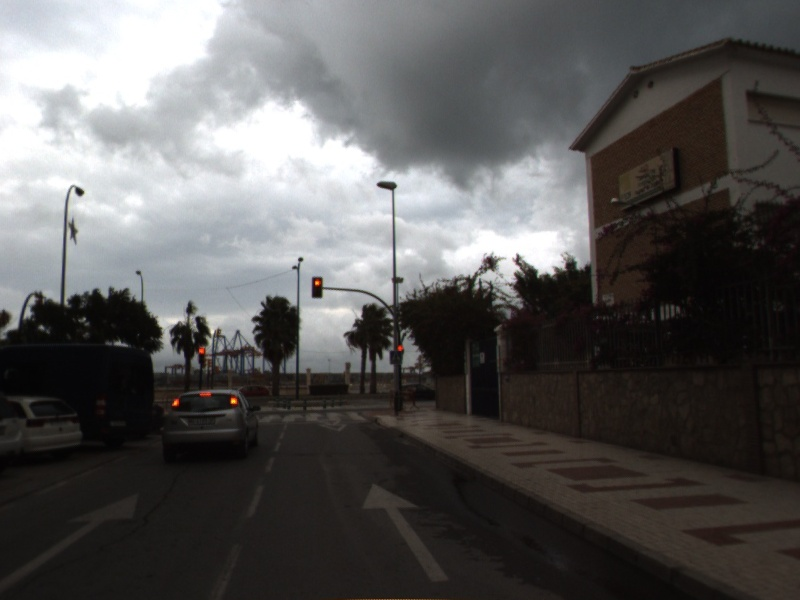STRAIGHT: (1, 488, 141, 590), (359, 479, 453, 583)
